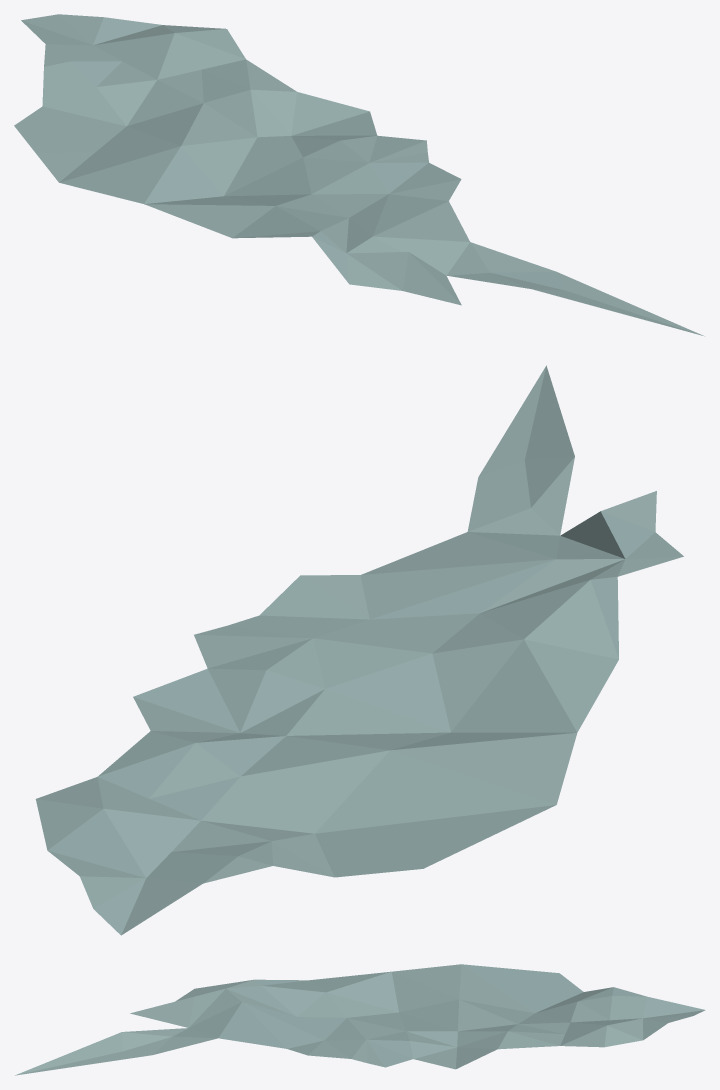
Rendered from Cave_Floor_Hole_Lid.fbx.
3 renders of one model, top to bottom at view 1: azimuth 30°, elevation 25°; view 2: azimuth 150°, elevation 25°; view 3: azimuth 270°, elevation 25°, orthographic. The views are drawn at different scales.
Parts seen in each view (by area): view 1: Hole_Lid; view 2: Hole_Lid; view 3: Hole_Lid.
Boxes of the visible parts, x1,y1,x2,y2 form: Hole_Lid: (14, 14, 704, 336); Hole_Lid: (35, 365, 683, 935); Hole_Lid: (15, 964, 705, 1075).
Size of the model in its own units: 8842 by 1110 by 23151.
